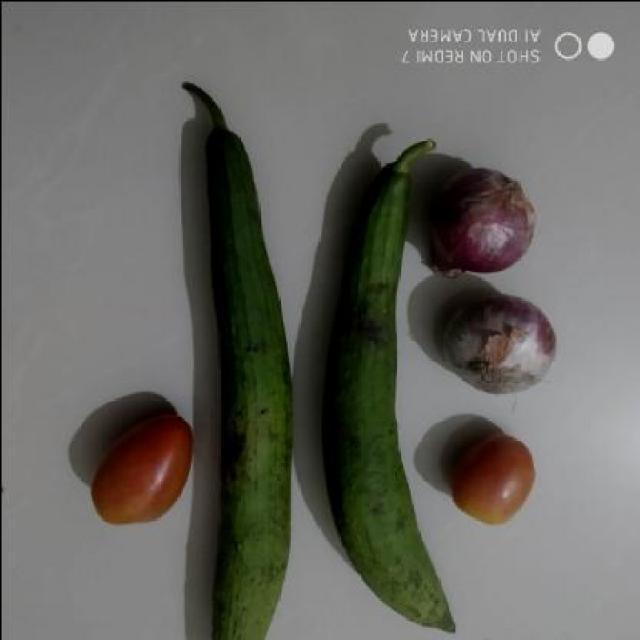Onion: (428, 286, 576, 399), (420, 162, 536, 280)
Sponge Gourd: (182, 74, 296, 640), (304, 134, 424, 637)
Tomato: (78, 397, 194, 537), (442, 428, 546, 528)
